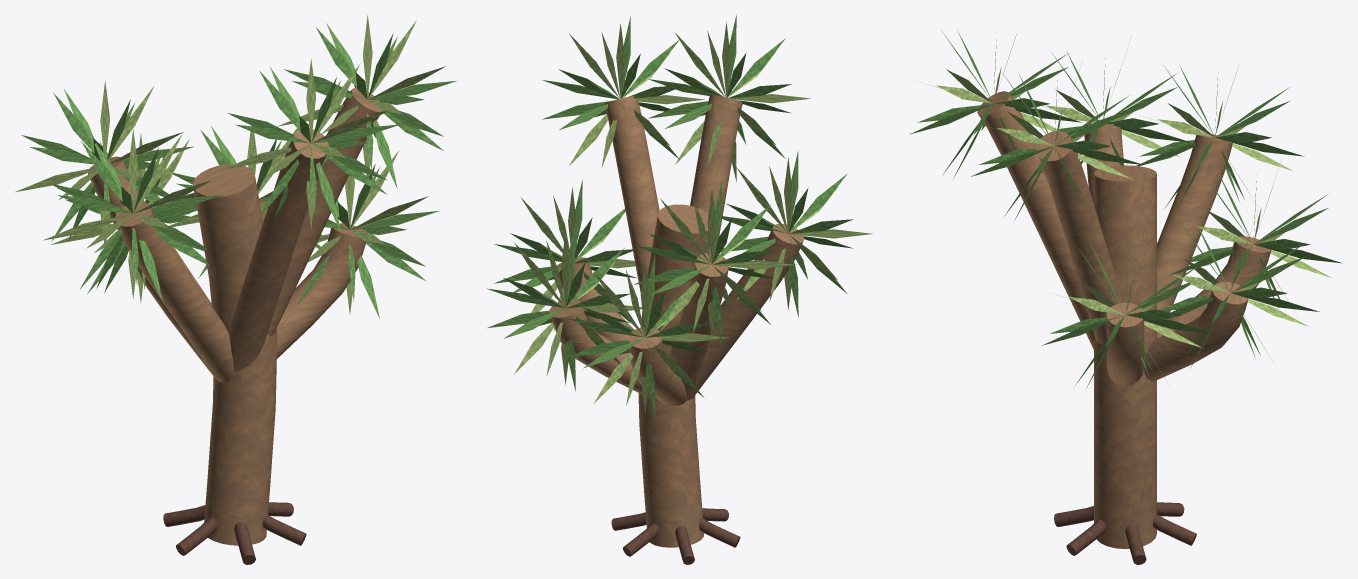
File: tree_2.glb
3 views of the same model, side by side, from view 1: azimuth 30°, elevation 25°; view 2: azimuth 150°, elevation 25°; view 3: azimuth 270°, elevation 25° (orthographic). The views are drawn at different scales.
Visible parts, largest first — view 1: tree_2; view 2: tree_2; view 3: tree_2.
Part boxes in pixels (x1,y1,x2,y2): tree_2: (15, 15, 457, 564); tree_2: (487, 14, 872, 564); tree_2: (910, 32, 1342, 564).
Bounding box in the file's own units: 3.5 × 4.57 × 3.49.
Materials: 1 (1 with a texture image).
